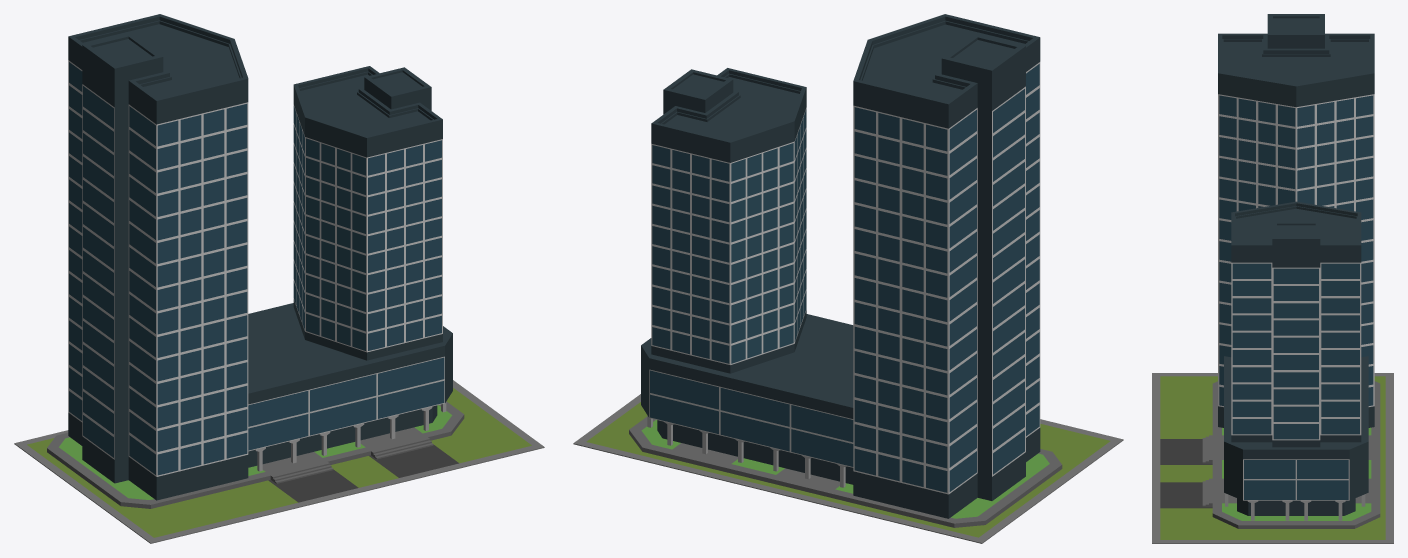
The picture shows the model from 3 angles, left to right: view 1: azimuth 30°, elevation 25°; view 2: azimuth 150°, elevation 25°; view 3: azimuth 270°, elevation 25°; orthographic projection. The views are drawn at different scales.
Parts seen in each view (by area): view 1: skyscraper_c.001; view 2: skyscraper_c.001; view 3: skyscraper_c.001.
Part boxes in pixels (<box>): skyscraper_c.001: <box>14,14,544,543</box>; skyscraper_c.001: <box>573,14,1123,543</box>; skyscraper_c.001: <box>1152,14,1393,543</box>.
Size of the model in its own units: 50 by 50.99 by 30.
Materials: 1 (1 with a texture image).
